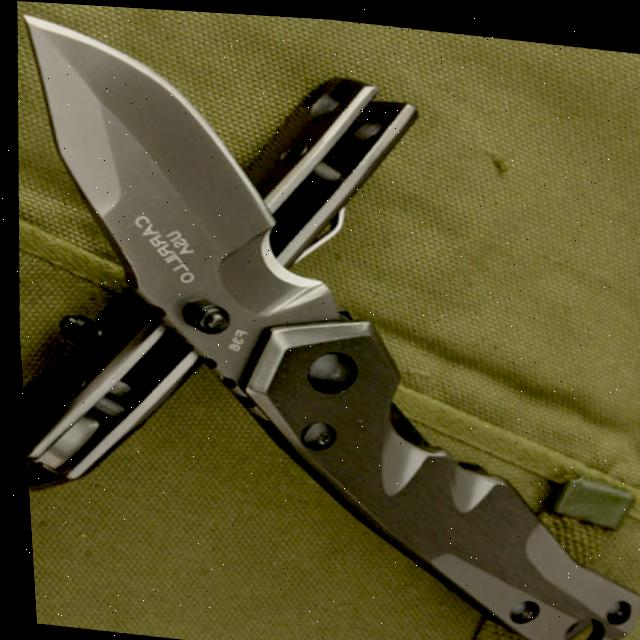knife: (1, 13, 640, 640), (2, 43, 439, 531)
